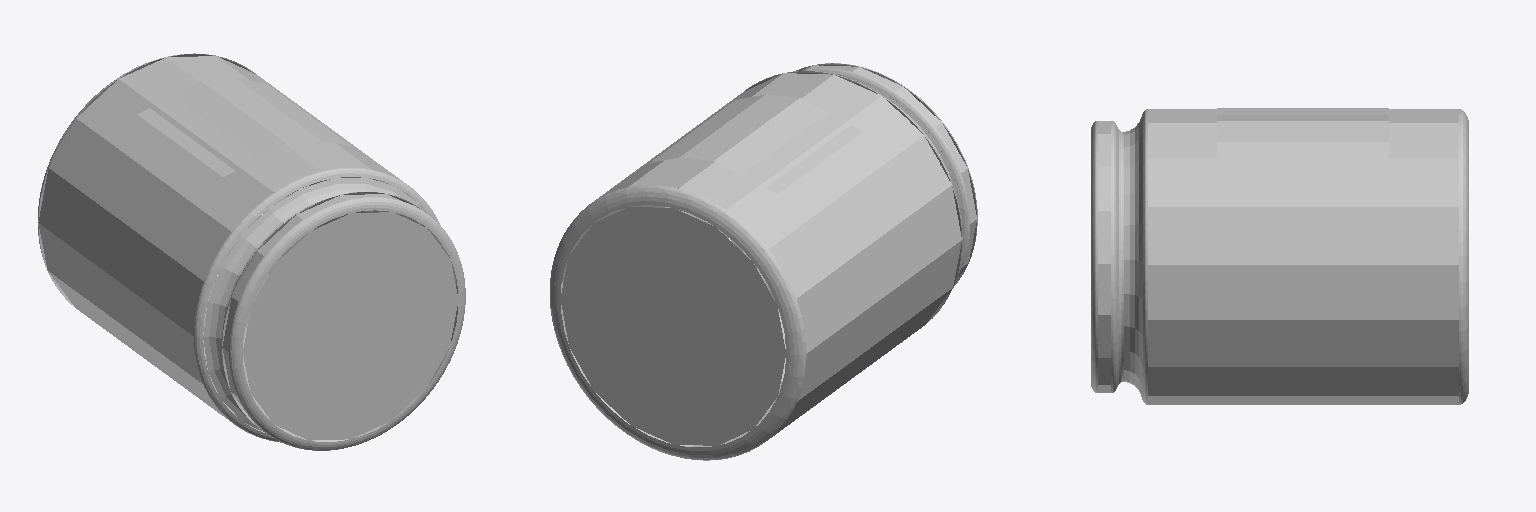
3 views of the same model, side by side, from view 1: azimuth 30°, elevation 25°; view 2: azimuth 150°, elevation 25°; view 3: azimuth 270°, elevation 25° (orthographic).
Parts seen in each view (by area): view 1: ShapeIndexedFaceSet.005_ShapeIndexedFaceSet, ShapeIndexedFaceSet.001_ShapeIndexedFaceSet.002, ShapeIndexedFaceSet.002_ShapeIndexedFaceSet.003, ShapeIndexedFaceSet_ShapeIndexedFaceSet.001, ShapeIndexedFaceSet.004_ShapeIndexedFaceSet.005; view 2: ShapeIndexedFaceSet.005_ShapeIndexedFaceSet, ShapeIndexedFaceSet.003_ShapeIndexedFaceSet.004, ShapeIndexedFaceSet.004_ShapeIndexedFaceSet.005, ShapeIndexedFaceSet_ShapeIndexedFaceSet.001, ShapeIndexedFaceSet.002_ShapeIndexedFaceSet.003; view 3: ShapeIndexedFaceSet.005_ShapeIndexedFaceSet, ShapeIndexedFaceSet.002_ShapeIndexedFaceSet.003, ShapeIndexedFaceSet_ShapeIndexedFaceSet.001, ShapeIndexedFaceSet.004_ShapeIndexedFaceSet.005.
Boxes of the visible parts, <box> form: ShapeIndexedFaceSet.005_ShapeIndexedFaceSet: <box>38,56,442,432</box>; ShapeIndexedFaceSet.001_ShapeIndexedFaceSet.002: <box>243,212,458,440</box>; ShapeIndexedFaceSet.002_ShapeIndexedFaceSet.003: <box>194,168,465,450</box>; ShapeIndexedFaceSet_ShapeIndexedFaceSet.001: <box>137,77,350,176</box>; ShapeIndexedFaceSet.004_ShapeIndexedFaceSet.005: <box>38,53,287,305</box>; ShapeIndexedFaceSet.005_ShapeIndexedFaceSet: <box>561,73,961,446</box>; ShapeIndexedFaceSet.003_ShapeIndexedFaceSet.004: <box>560,207,785,445</box>; ShapeIndexedFaceSet.004_ShapeIndexedFaceSet.005: <box>550,185,806,460</box>; ShapeIndexedFaceSet_ShapeIndexedFaceSet.001: <box>650,94,862,193</box>; ShapeIndexedFaceSet.002_ShapeIndexedFaceSet.003: <box>718,63,977,323</box>; ShapeIndexedFaceSet.005_ShapeIndexedFaceSet: <box>1148,109,1458,404</box>; ShapeIndexedFaceSet.002_ShapeIndexedFaceSet.003: <box>1091,109,1147,404</box>; ShapeIndexedFaceSet_ShapeIndexedFaceSet.001: <box>1217,108,1388,169</box>; ShapeIndexedFaceSet.004_ShapeIndexedFaceSet.005: <box>1459,109,1468,404</box>.
Bounding box in the file's own units: 10.16 × 10.24 × 13.